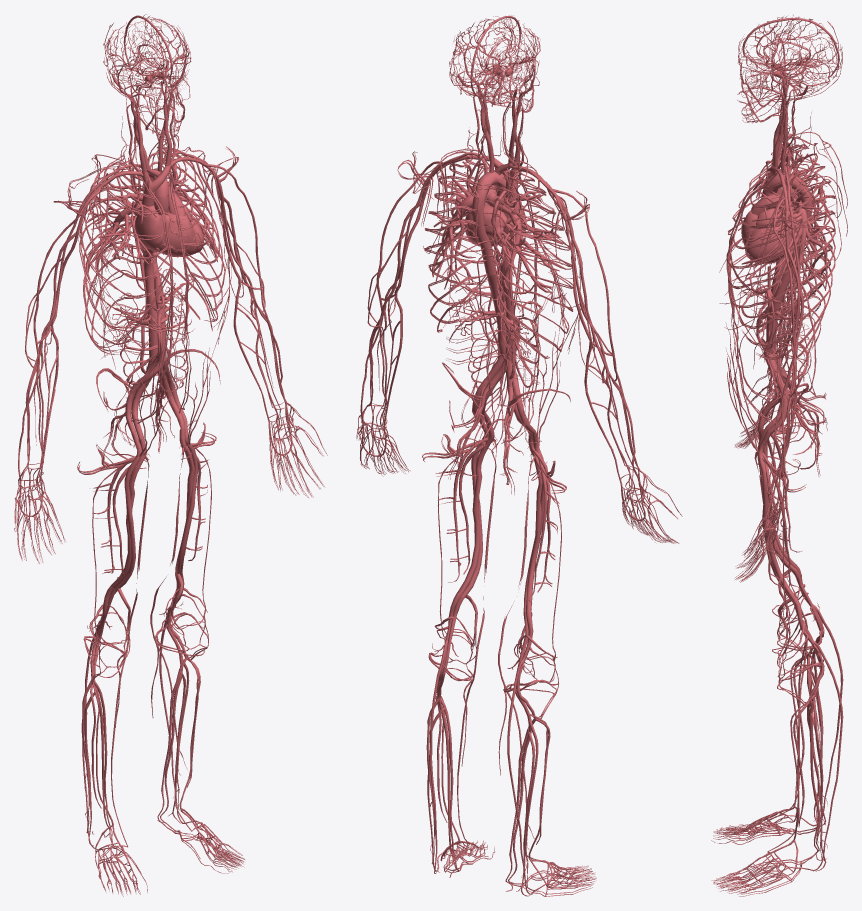
File: cardio-female.glb
3 views of the same model, side by side, from view 1: azimuth 30°, elevation 25°; view 2: azimuth 150°, elevation 25°; view 3: azimuth 270°, elevation 25° (orthographic). The views are drawn at different scales.
Visible parts, largest first — view 1: cardio; view 2: cardio; view 3: cardio.
Part boxes in pixels (<box>): cardio: <box>14,14,327,896</box>; cardio: <box>356,15,682,896</box>; cardio: <box>711,15,847,896</box>.
Bounding box in the file's own units: 0.6637 × 1.7 × 0.2491.
